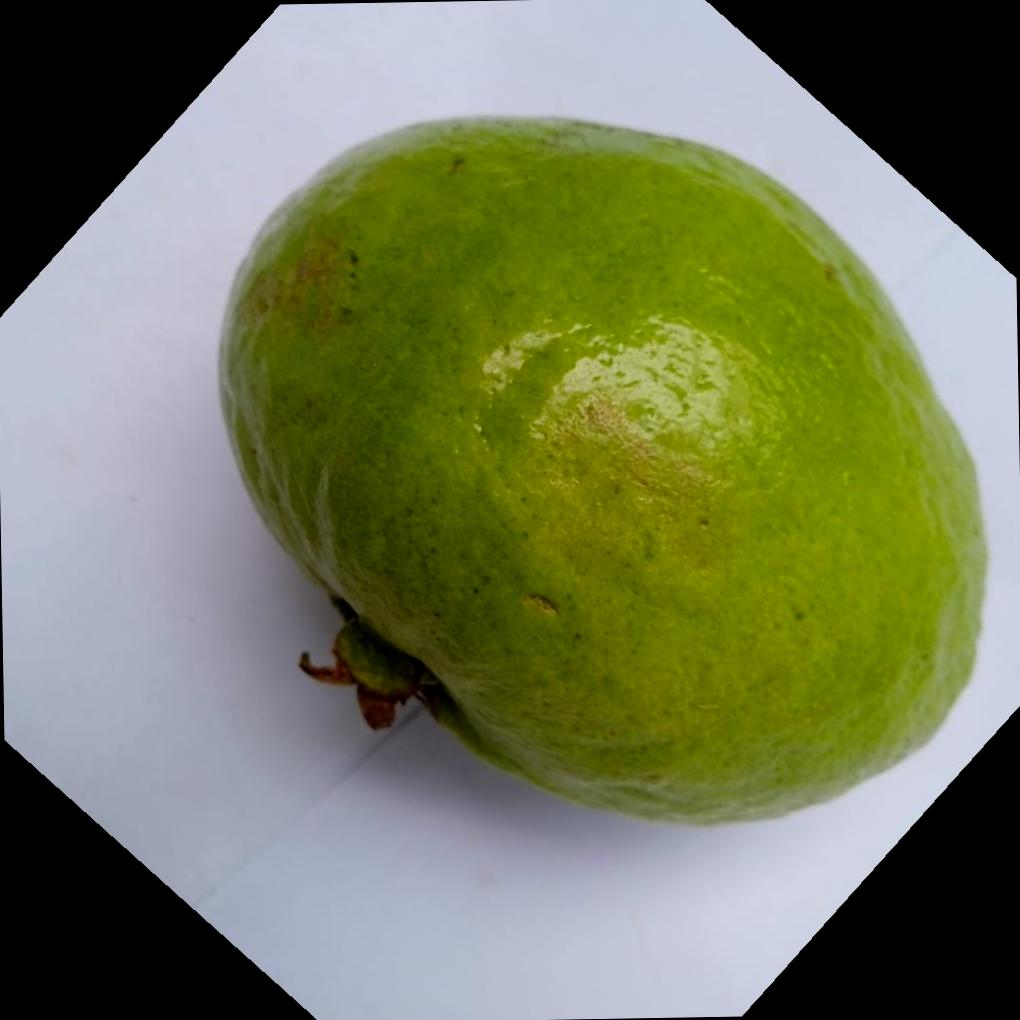FreshGuava: (215, 119, 991, 831)
